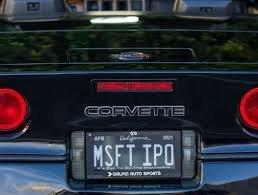Liscence Plate: (84, 132, 182, 176)
